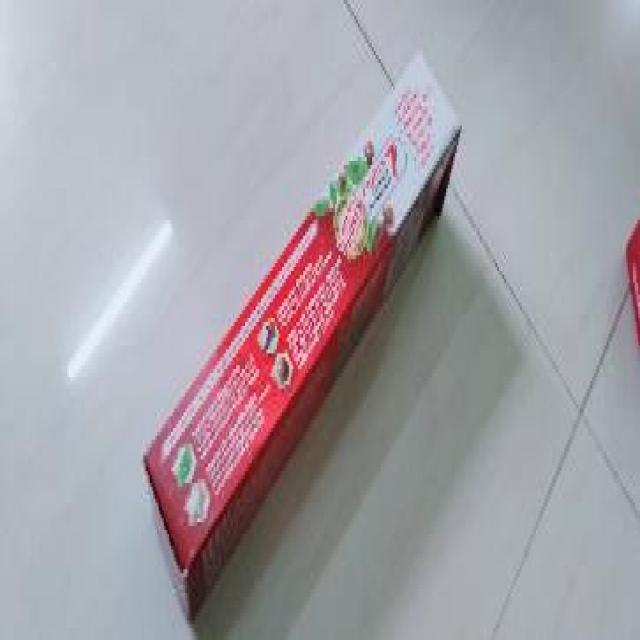tooth paste: (112, 66, 470, 621)
